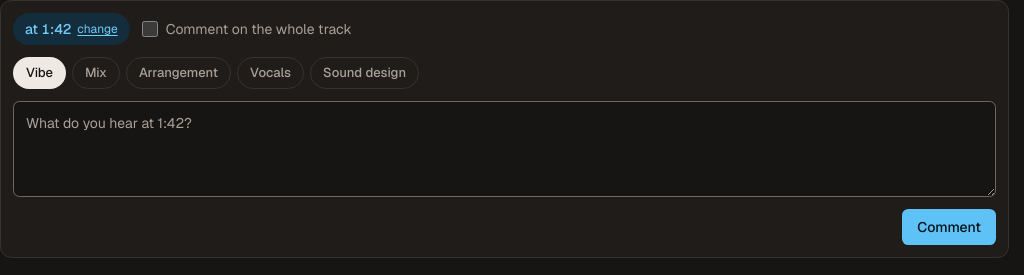
Test case: CommentComposer › explains the rate limit
Type "One more" into the text box named "Comment" at [504, 149], box [13,101,996,197]
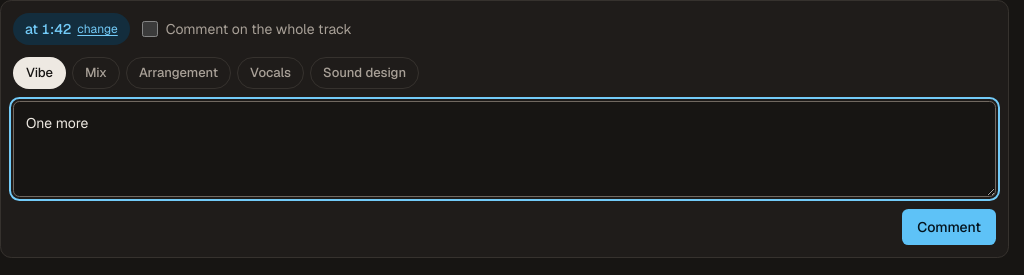
Click the button "Comment" at [949, 227], box [902,209,996,245]
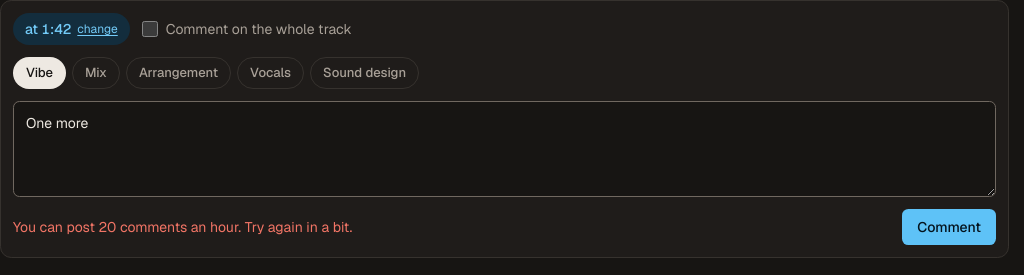
Now the text "You can post 20 comments an hour. Try again in a bit." is shown, box [13,217,352,237]
